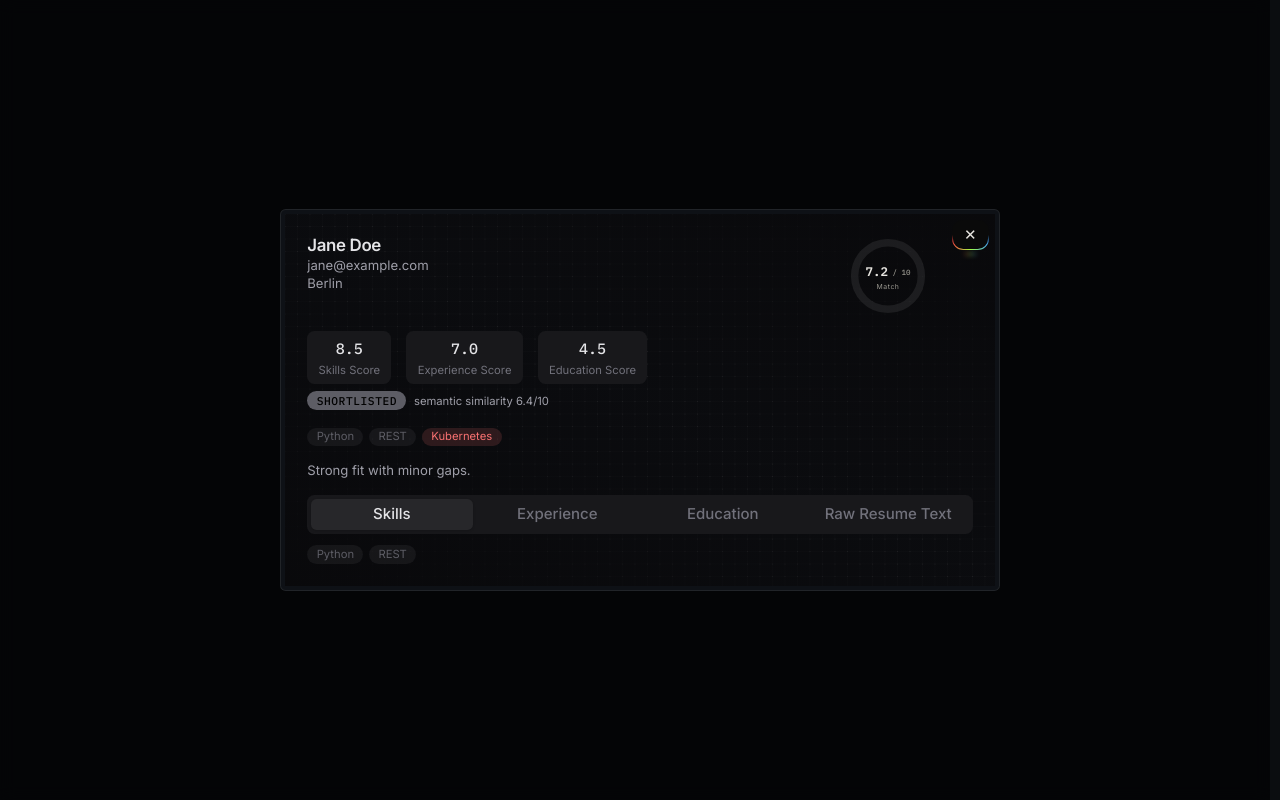
Test case: CandidateDetail › switches to the raw text tab and shows extracted text
Step 1. Click the button "Raw Resume Text" → click(888, 514), box 807,499 -> 969,530
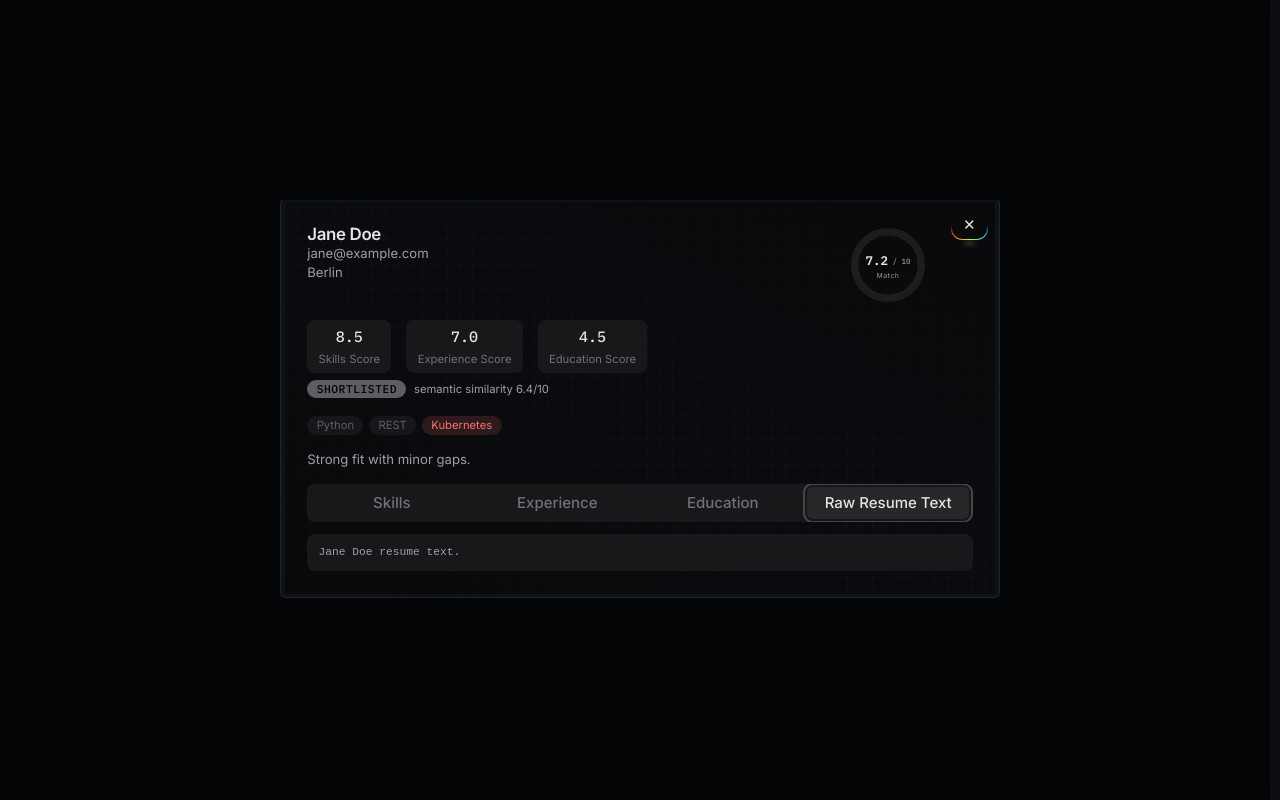
expect the text "Jane Doe resume text." is shown: met, box 307,534 -> 973,571
